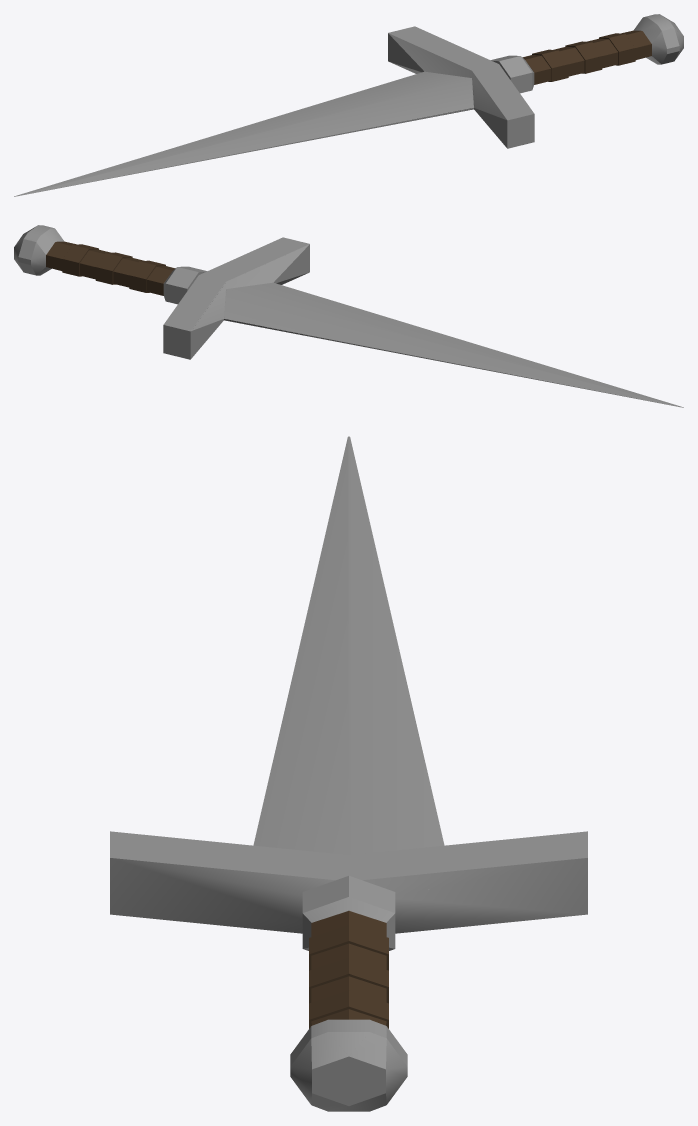
File: dagger.fbx
3 views of the same model, one above another, from view 1: azimuth 30°, elevation 25°; view 2: azimuth 150°, elevation 25°; view 3: azimuth 270°, elevation 25° (orthographic). The views are drawn at different scales.
Visible parts, largest first — view 1: dagger; view 2: dagger; view 3: dagger.
Part boxes in pixels (bbox=[...]): dagger: bbox=[14, 14, 683, 196]; dagger: bbox=[14, 225, 683, 407]; dagger: bbox=[110, 436, 587, 1111].
Size of the model in its own units: 3707 by 214 by 1162.
